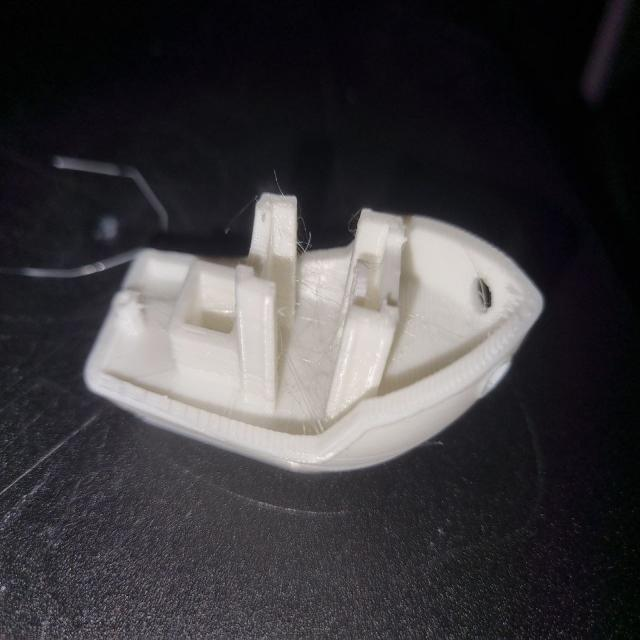Stringing: (278, 265, 336, 431)
